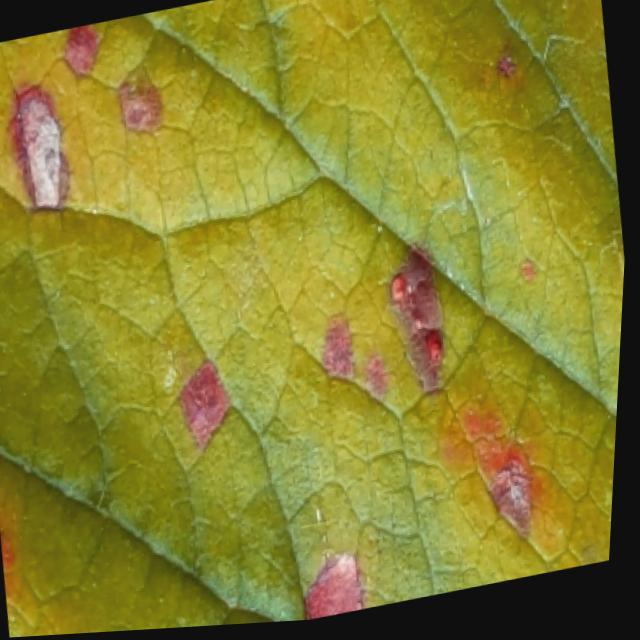Angular Leafspot: (0, 0, 595, 626)
